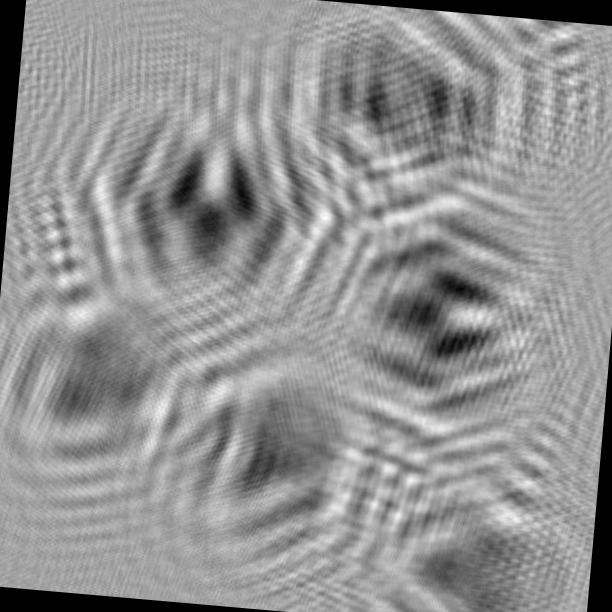V: (128, 332, 394, 596)
W: (298, 186, 588, 473), (52, 63, 346, 340)
Y: (0, 257, 223, 532), (373, 440, 600, 612)
Z: (243, 0, 542, 243)
